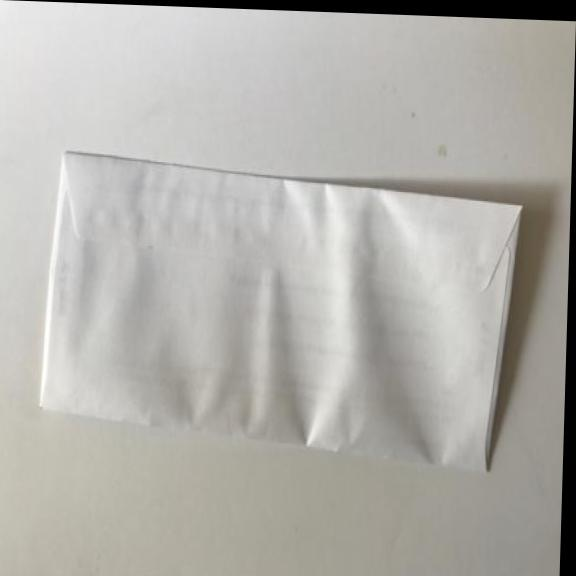Kertas: (26, 135, 538, 484)
